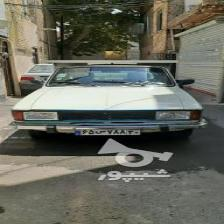plate: (70, 128, 141, 135)
